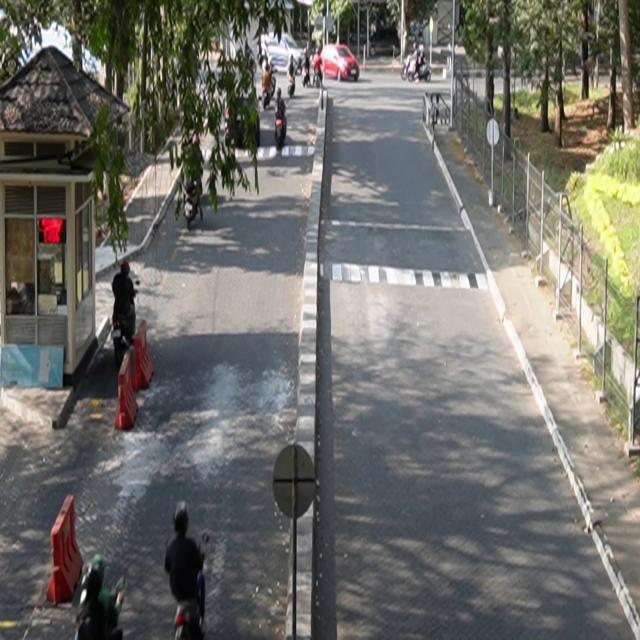car: (321, 44, 361, 82)
